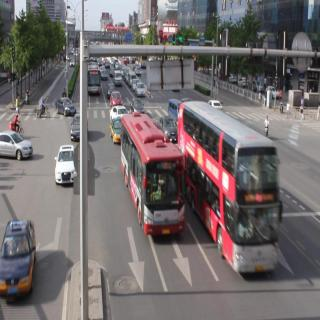BigCar: (181, 102, 281, 270), (120, 110, 188, 240), (89, 64, 104, 96)
Car: (1, 216, 39, 296), (52, 144, 79, 188), (1, 128, 31, 162), (160, 111, 178, 143), (55, 91, 76, 117), (71, 113, 86, 139), (111, 88, 126, 111), (136, 82, 149, 96)
